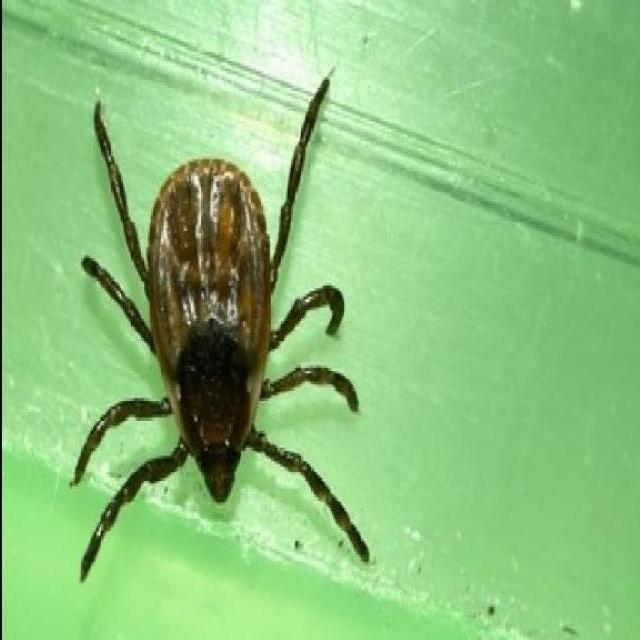Rhipicephalus Sanguineus-F: (70, 77, 371, 585)
